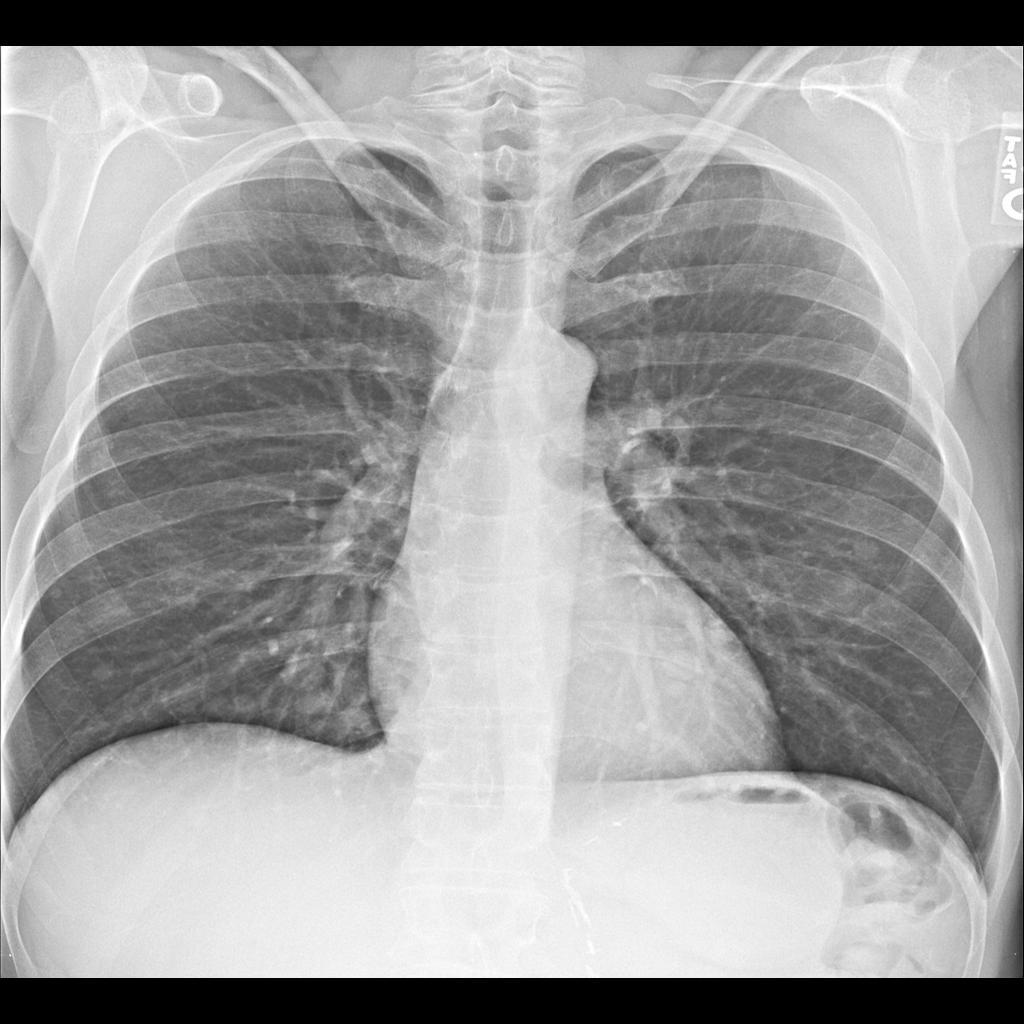Nodule: (844, 532, 888, 572)
